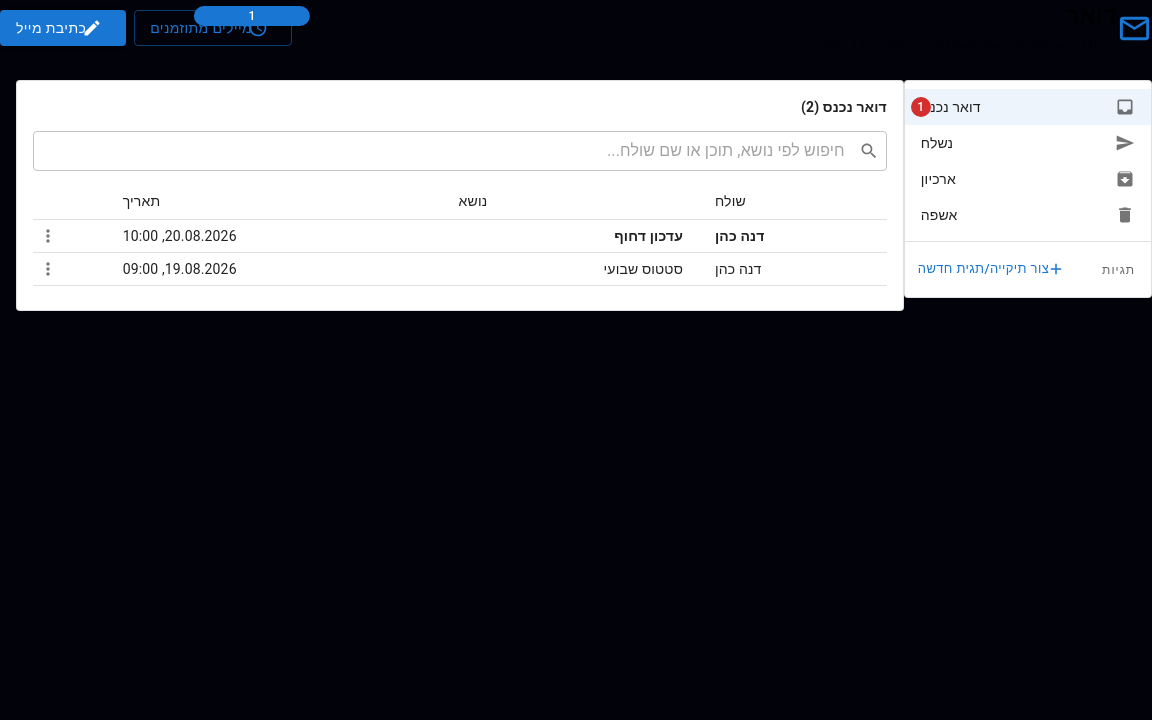
it: Emails › scheduled emails › opens the scheduled-emails dialog listing pending emails, and cancels one
Click the button with test id "scheduled-emails-button" at (213, 28), box [134,10,292,46]
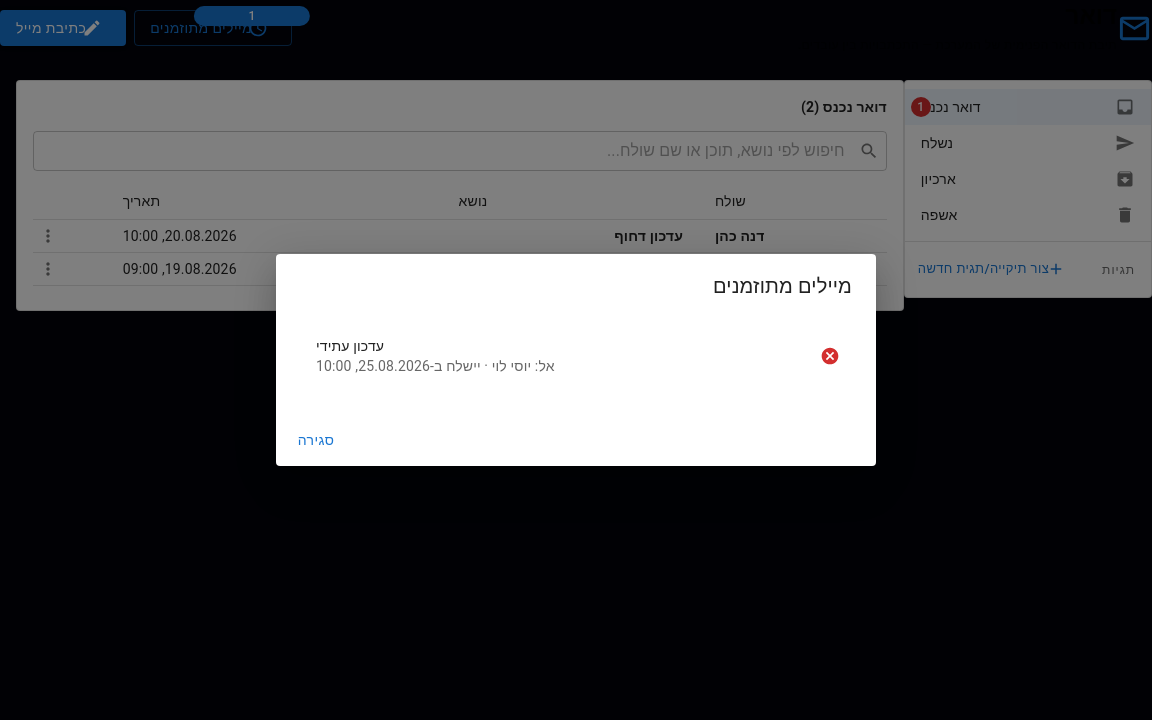
Result: the text "עדכון עתידי" is shown at [316,338,384,354]
Click the button named "ביטול תזמון: עדכון עתידי" at (830, 356), box [812,338,848,374]
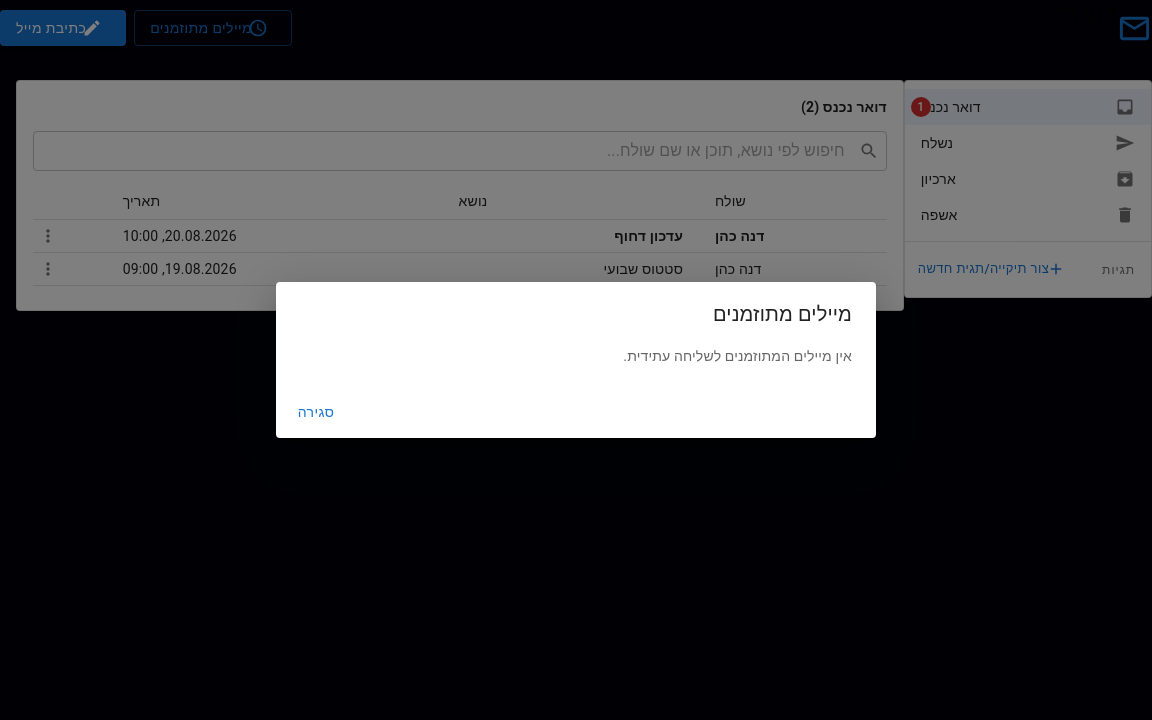
Result: the text "אין מיילים המתוזמנים לשליחה עתידית." is shown at [623,348,852,364]
